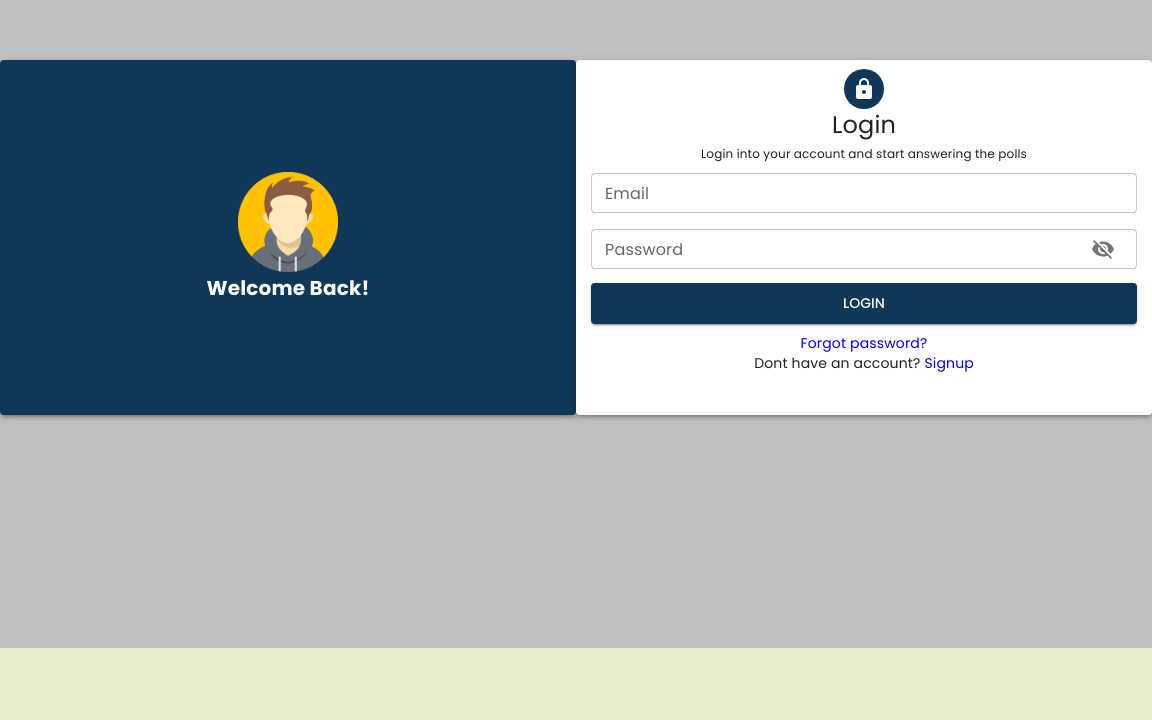
Test: Test Login Page › Should display user doesn't exist  message on entering invalid email
Expected: the button "Login" is shown, x1=591 y1=283 x2=1137 y2=324
In the field with placeholder "Enter your Email": (864, 193) x1=591 y1=173 x2=1137 y2=213, type "notexisting@gmail.com"
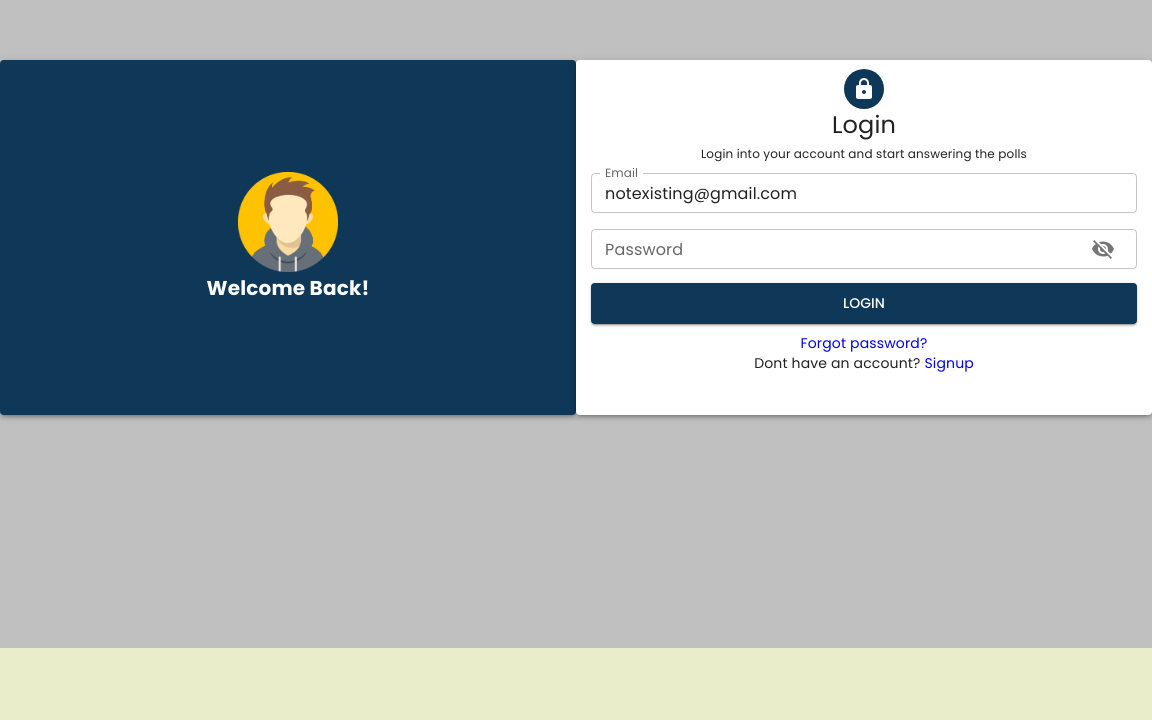
In the password field with placeholder "Enter your Password": (833, 249) x1=591 y1=229 x2=1075 y2=269, type "Hello@1234"
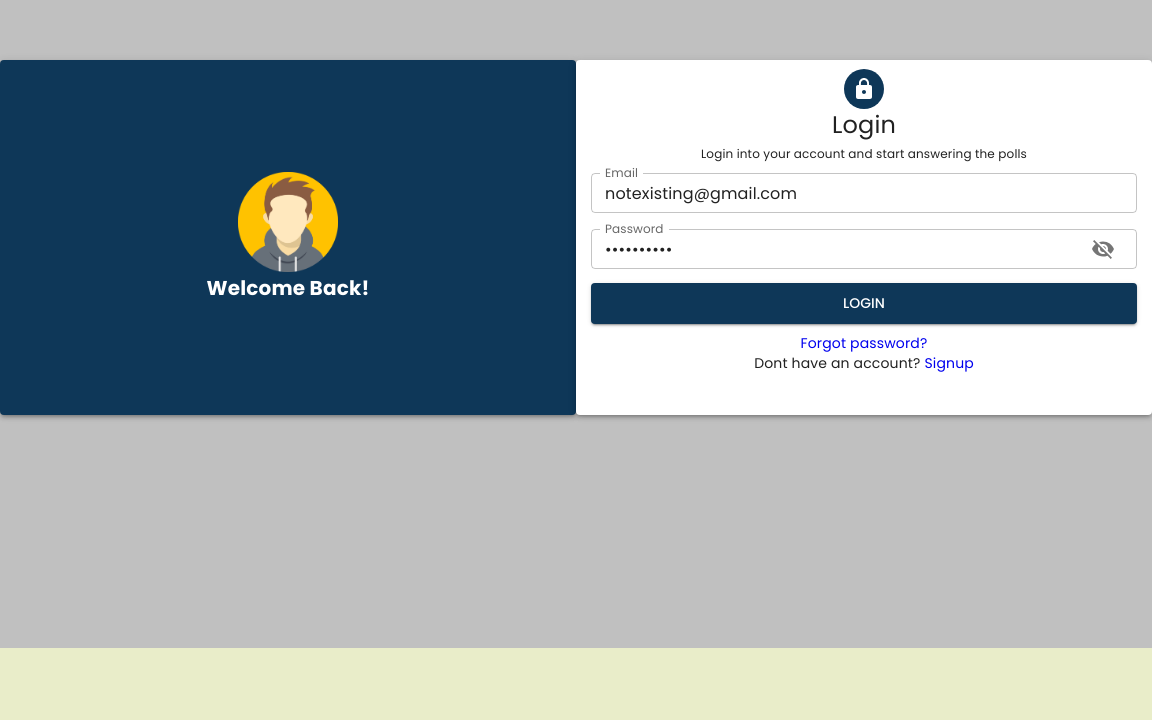
Click the button "Login": (864, 304) x1=591 y1=283 x2=1137 y2=324
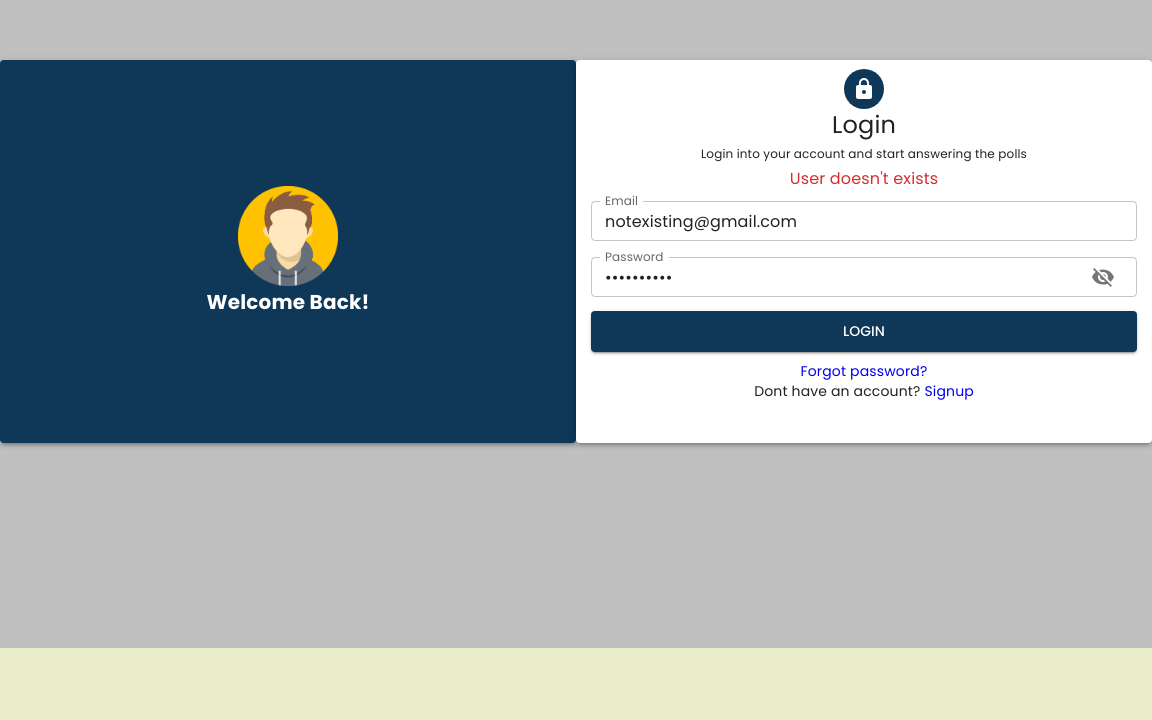
Result: the text "User doesn't exists" is shown at x1=790 y1=167 x2=938 y2=190
